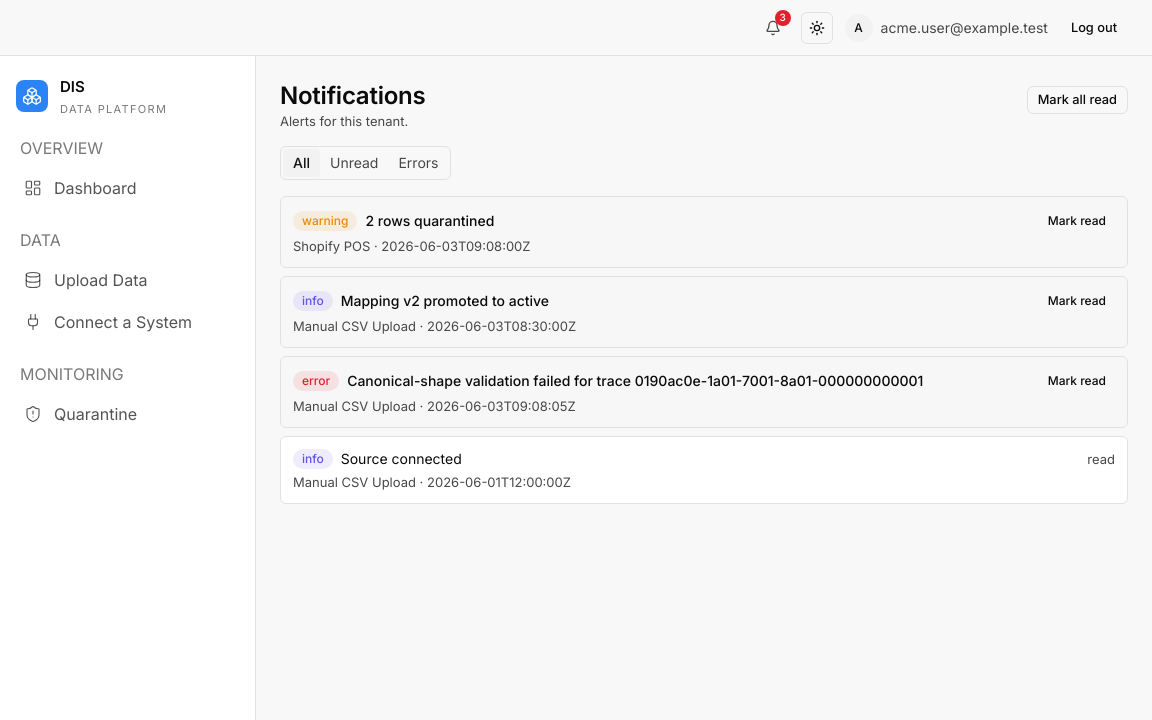
Scenario: Notifications (tenant slice) › narrows the list when a filter is selected
The width and height of the screenshot is (1152, 720).
Check: the heading "Notifications" is shown, box [280, 80, 426, 112]
Click the button "Errors" at (418, 163), box [388, 149, 448, 177]
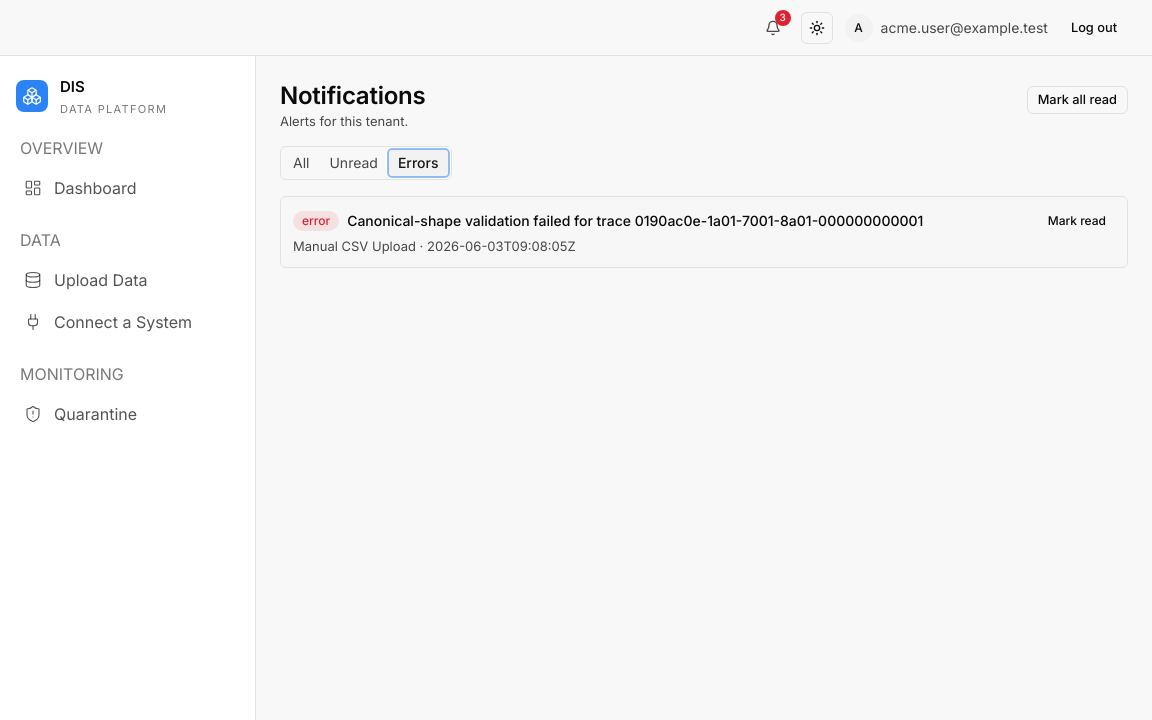
Check: the text "Canonical-shape validation failed" is shown, box [347, 212, 923, 229]
Check: the text "2 rows quarantined" is gone
Check: the text "Source connected" is gone
